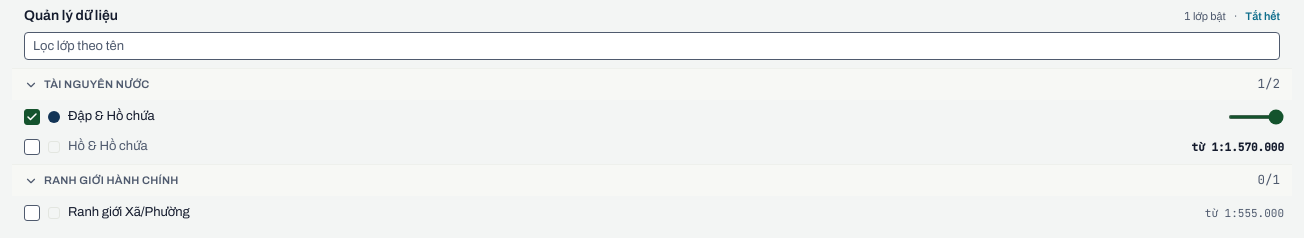
LayersPanelView › narrows rows by name without regard to accents or case
Type "HO CHUA" into the search field labelled "Lọc lớp" at point(652, 46), box [24,32,1280,60]
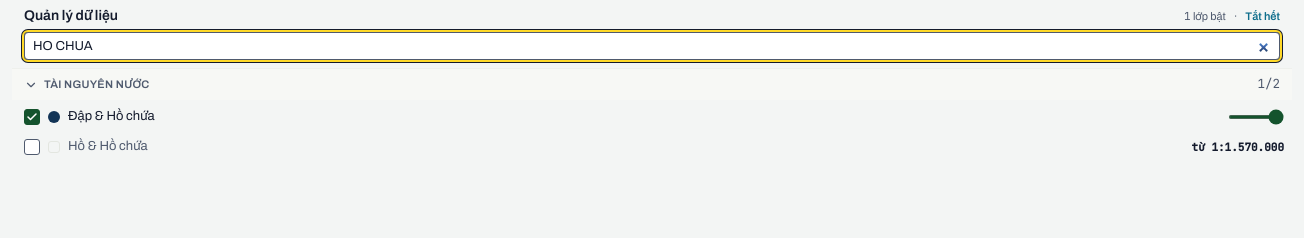
Expected: the button "Ranh giới hành chính" is gone
